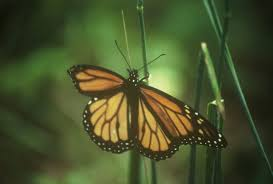Butterfly: (67, 40, 228, 163)
